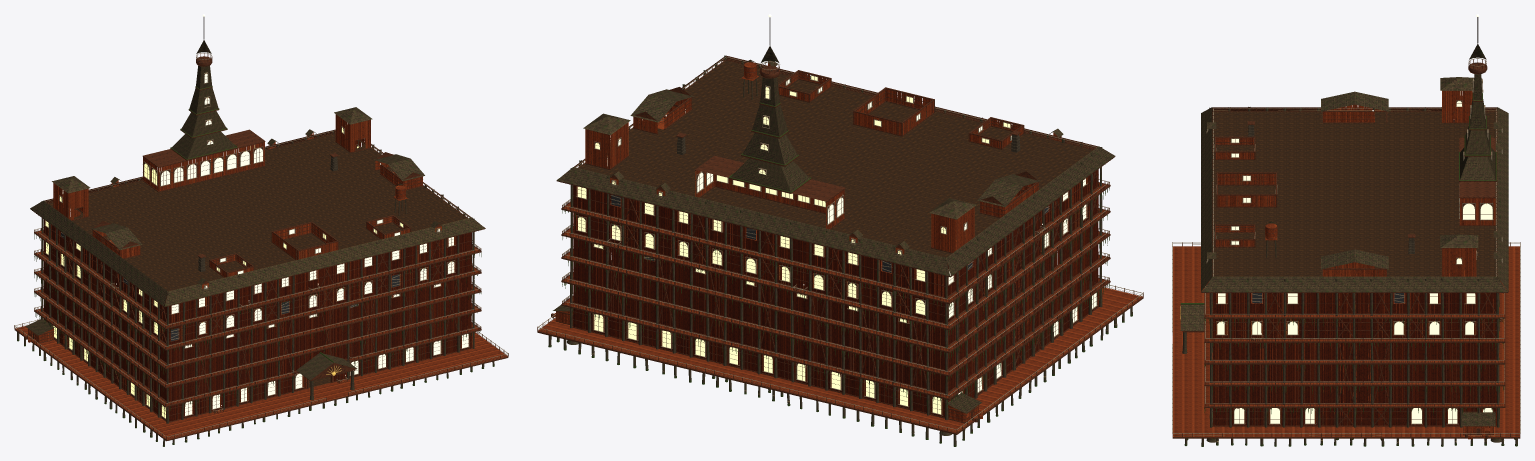
Rendered from shell_meshopt.glb.
3 renders of one model, left to right at view 1: azimuth 30°, elevation 25°; view 2: azimuth 150°, elevation 25°; view 3: azimuth 270°, elevation 25°, orthographic. The views are drawn at different scales.
Visible parts, largest first — view 1: spire; view 2: spire; view 3: spire.
Boxes of the visible parts, x1,y1,x2,y2 form: spire: [14, 14, 508, 446]; spire: [537, 14, 1143, 446]; spire: [1172, 14, 1520, 446].
Bounding box in the file's own units: 138 × 113 × 104.
Materials: 16 (13 with a texture image).
